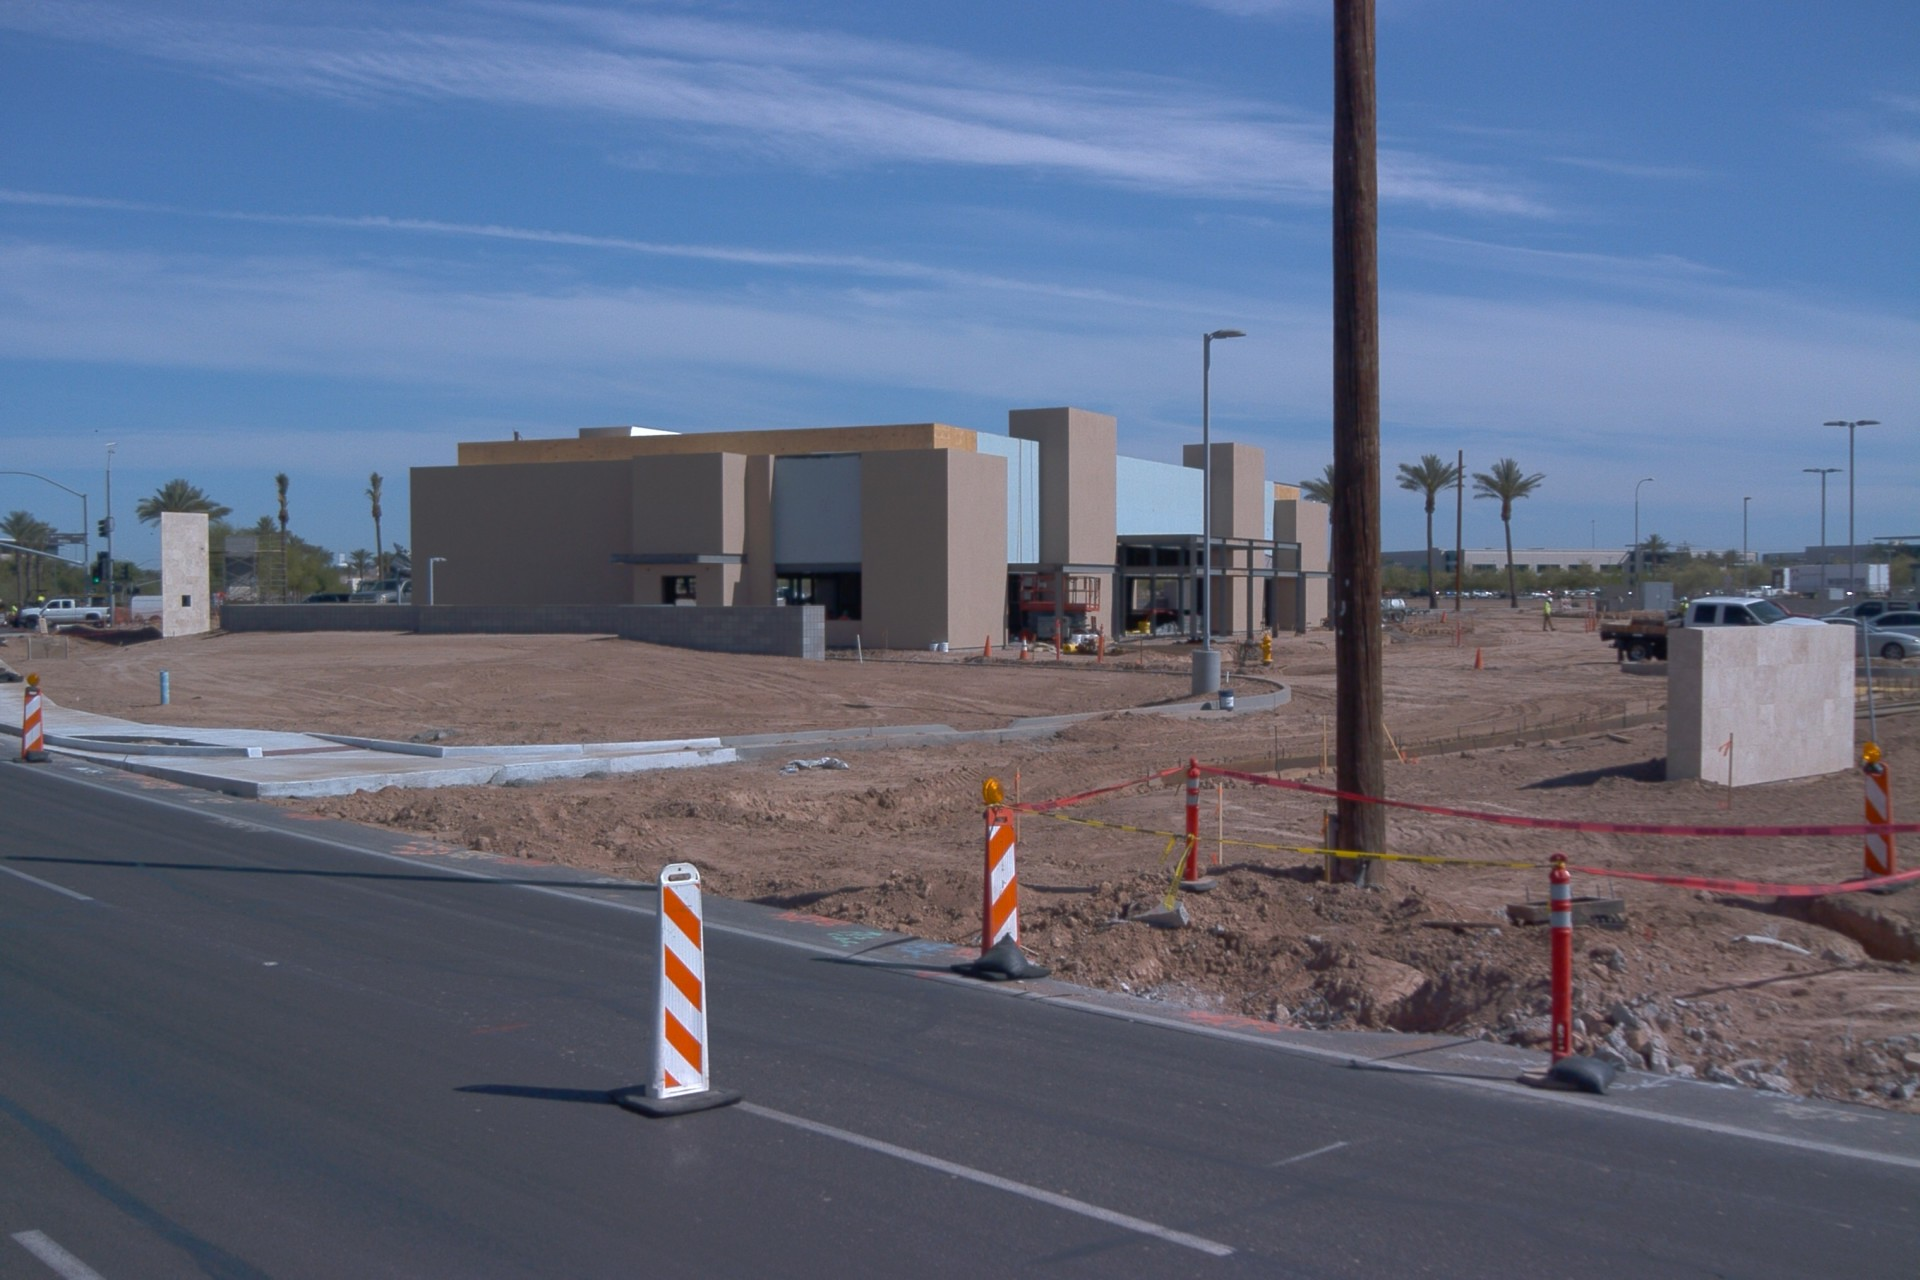TYPE_PEDESTRIAN: (1540, 595, 1558, 633), (1678, 593, 1691, 619), (1673, 596, 1686, 617), (9, 602, 17, 617)
TYPE_VEHICLE: (1600, 599, 1828, 665), (1818, 618, 1920, 663), (1815, 593, 1919, 633), (354, 544, 412, 603), (17, 598, 111, 631), (347, 576, 411, 607), (1864, 609, 1920, 642), (1380, 595, 1431, 622), (290, 589, 359, 608), (132, 592, 165, 625), (1767, 600, 1816, 618), (22, 589, 46, 608), (778, 587, 806, 599), (1472, 588, 1493, 600), (791, 595, 812, 603), (1461, 588, 1473, 600)
